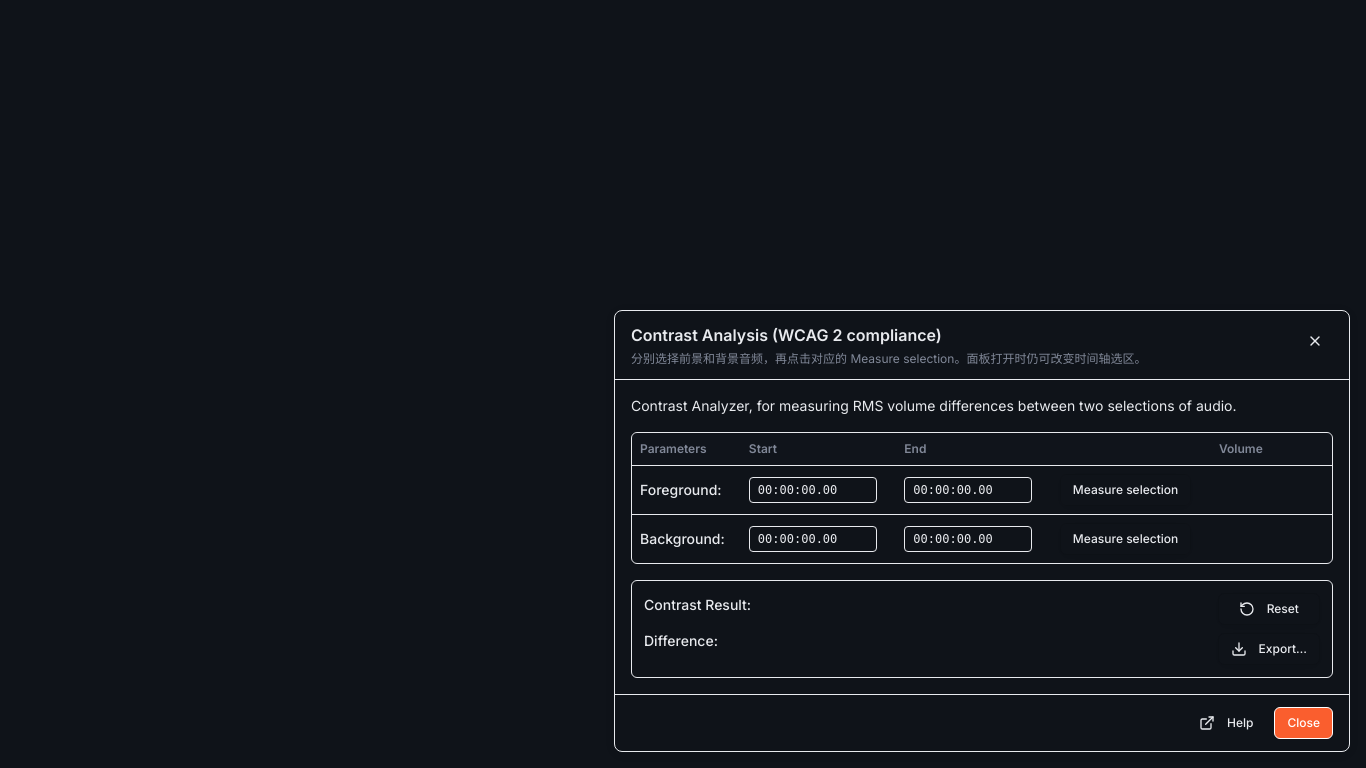
Test case: ContrastAnalysisDialog › keeps the window open with an explicit measurement error
Click the button with aria-label "Measure foreground selection": (1126, 490) [1060, 474, 1191, 506]
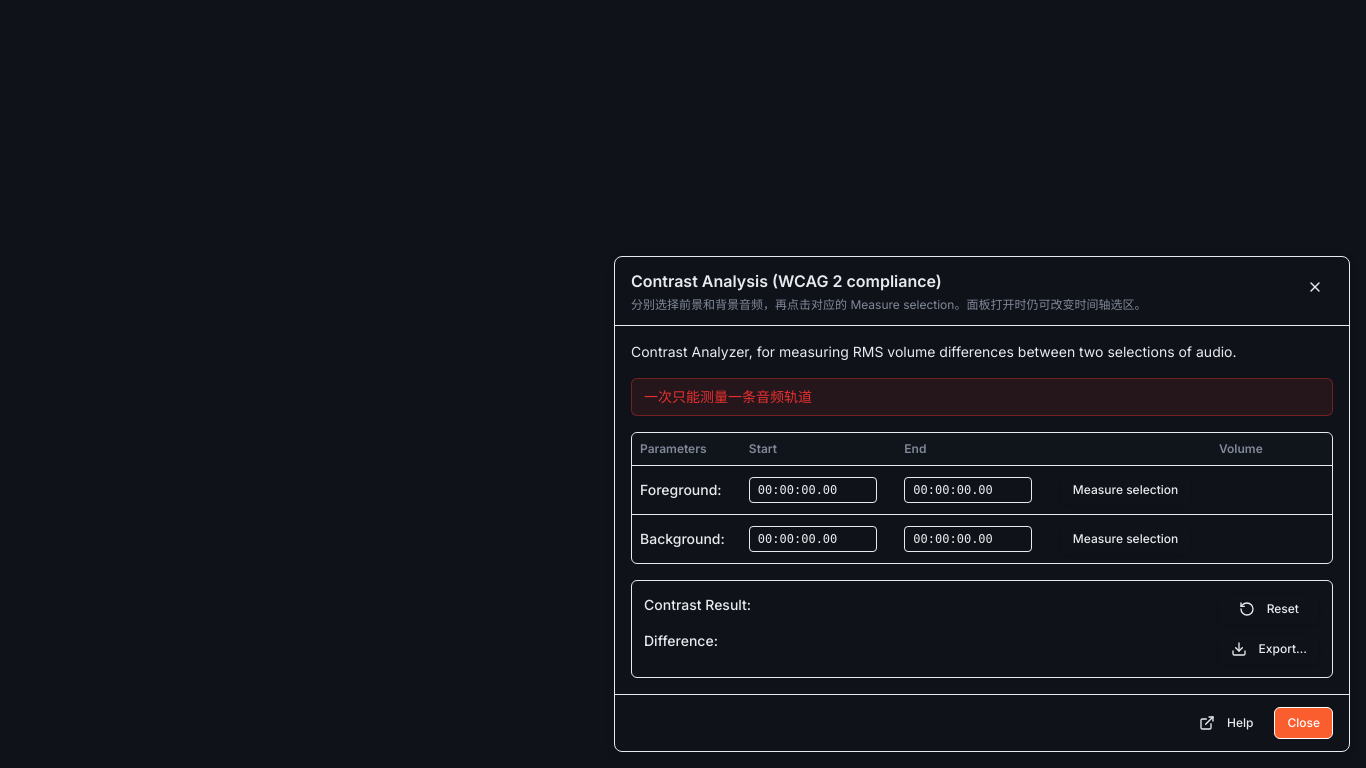
Check: the dialog is shown, box [614, 256, 1350, 752]
Check: the message reads "一次只能测量一条音频轨道", box [644, 388, 812, 405]
